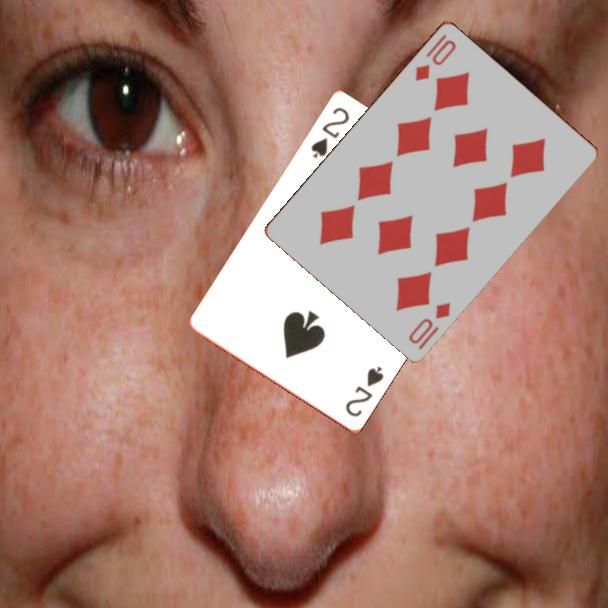d10: (411, 30, 459, 84), (405, 298, 453, 352)
s02: (307, 104, 353, 162), (342, 363, 387, 421)
